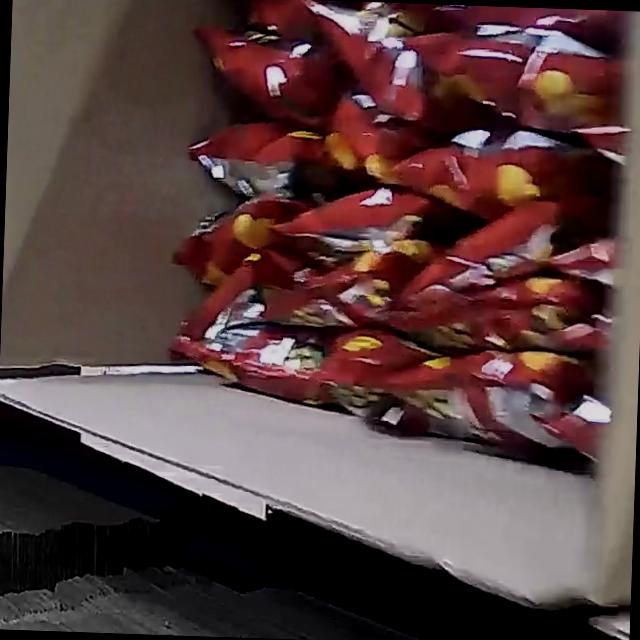masala: (157, 0, 634, 463)
